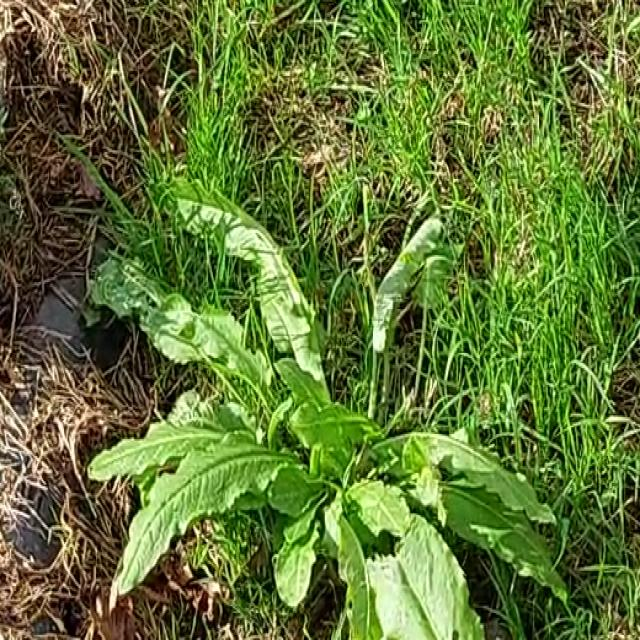organic waste: (57, 176, 588, 628)
